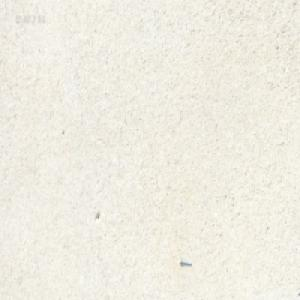Nail: (179, 258, 191, 267)
